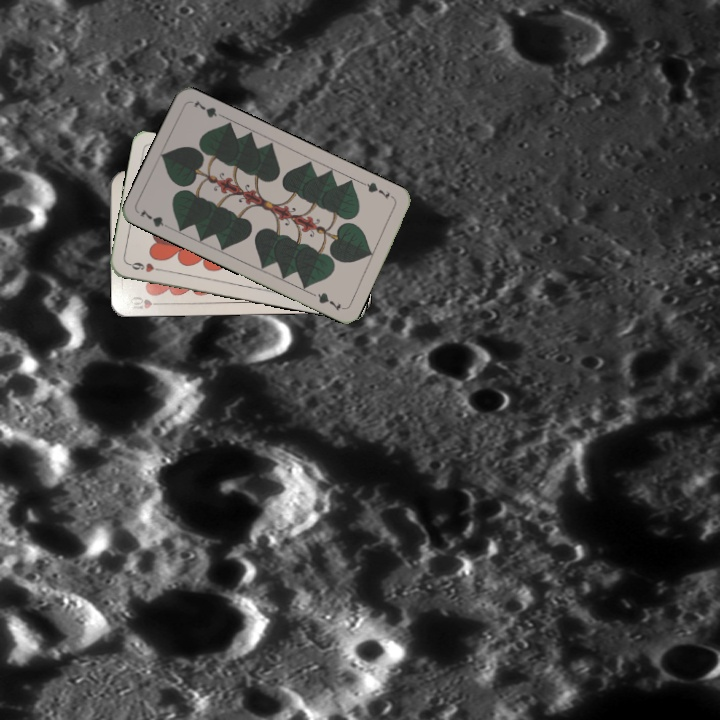G7: (136, 206, 174, 232), (358, 178, 397, 202)
H10: (126, 292, 166, 312)
H9: (124, 258, 165, 275)
